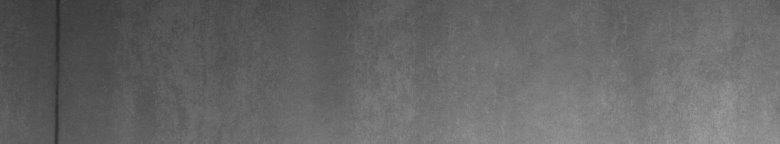hd: (49, 4, 65, 136)
